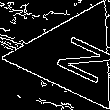N_NW: (36, 27, 108, 85)
